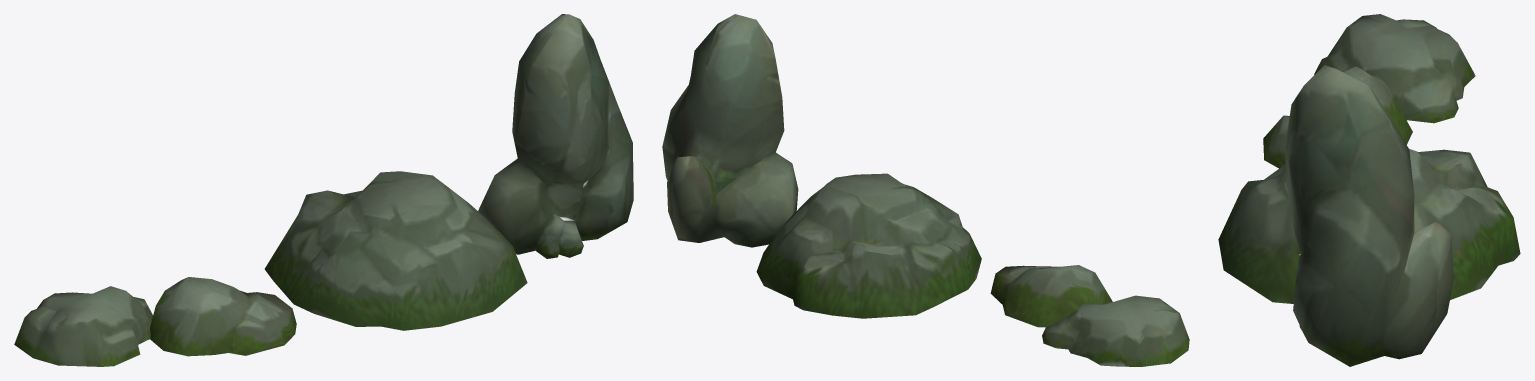
File: ShiTou_02.FBX
3 views of the same model, side by side, from view 1: azimuth 30°, elevation 25°; view 2: azimuth 150°, elevation 25°; view 3: azimuth 270°, elevation 25° (orthographic). The views are drawn at different scales.
Parts seen in each view (by area): view 1: Object021, Object022, Object020; view 2: Object021, Object022, Object020; view 3: Object022, Object021, Object020.
Boxes of the visible parts, x1,y1,x2,y2 form: Object021: [264, 171, 527, 330]; Object022: [478, 14, 633, 258]; Object020: [14, 277, 296, 366]; Object021: [756, 173, 981, 318]; Object022: [662, 14, 798, 247]; Object020: [990, 265, 1189, 366]; Object022: [1285, 65, 1453, 366]; Object021: [1218, 149, 1520, 303]; Object020: [1263, 14, 1475, 168].
Bounding box in the file's own units: 130 × 49.37 × 49.31.
